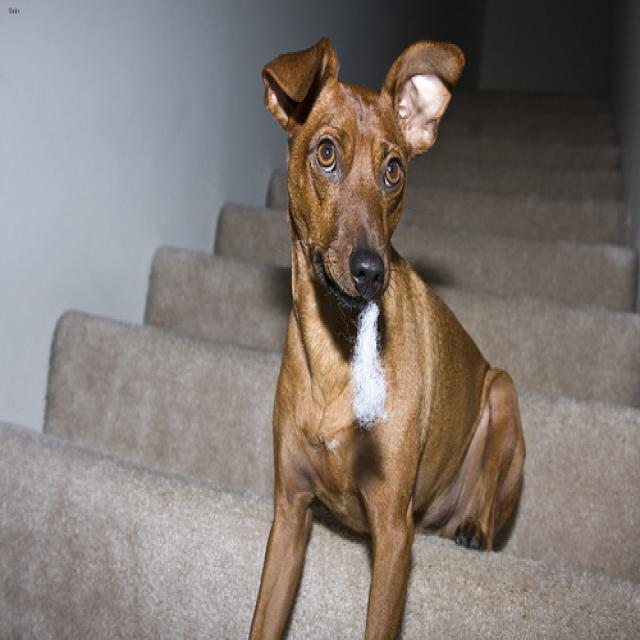dog-miniature_pinscher: (244, 29, 526, 636)
